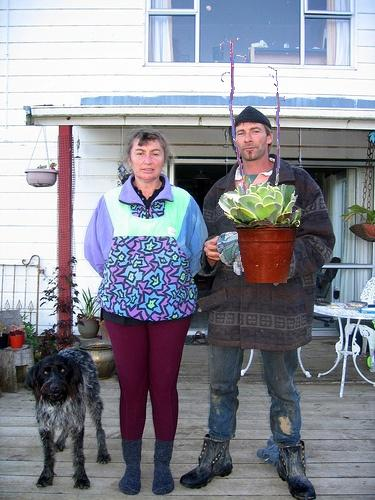tampered: (219, 37, 301, 283)
